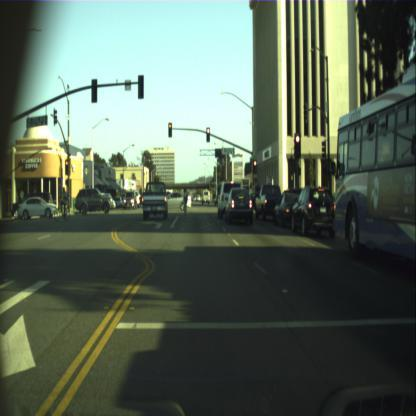Red: (294, 132, 301, 156), (253, 158, 257, 174), (206, 127, 210, 142)
RedLeft: (64, 159, 70, 174), (168, 122, 172, 136)
